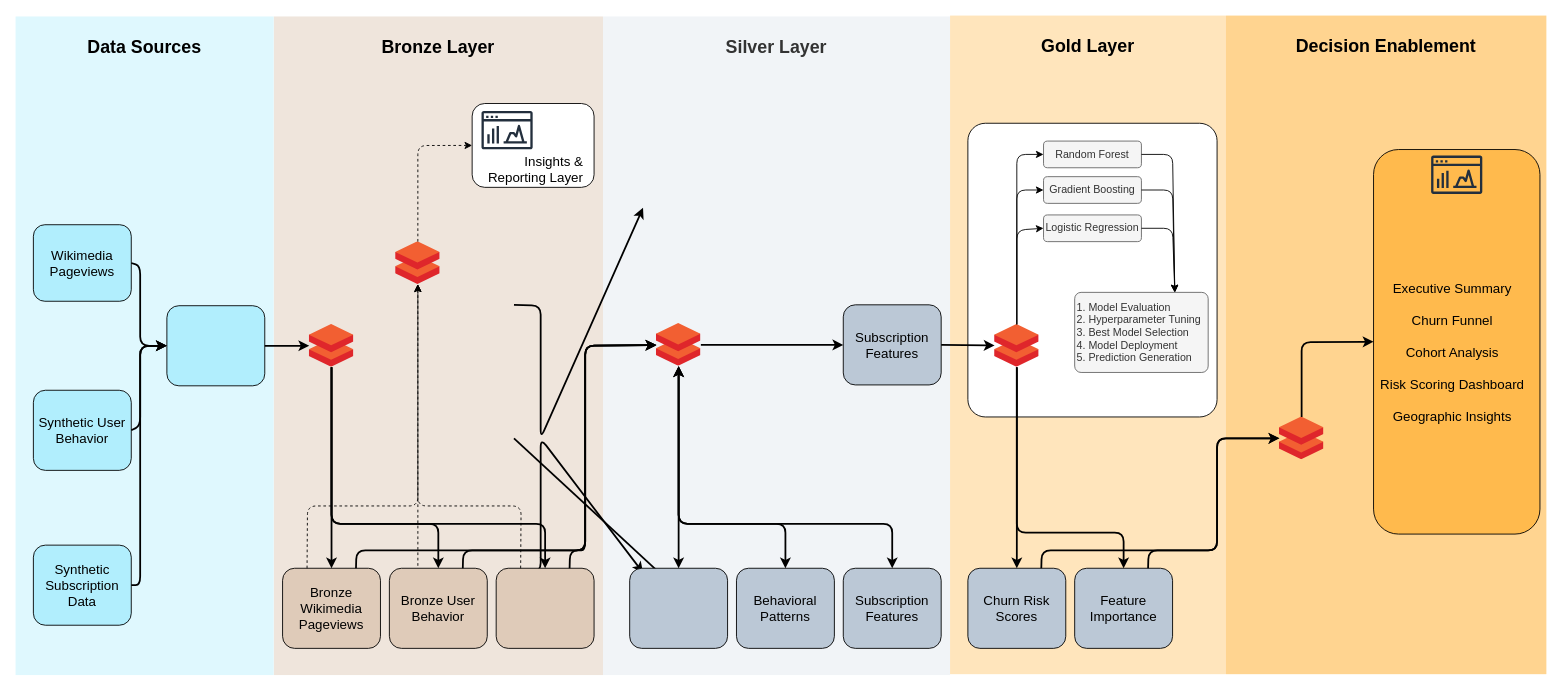
This 1561x690 diagram has some shape labels left out. Here are the shapes that lost their labels. From the top down, the centre of each, then its label:
(x=417, y=262): Data Quality Validation
(x=215, y=345): Raw Behavioral Logs
(x=331, y=345): Data Integration
(x=678, y=344): Feature Engineering
(x=1016, y=345): Model Training
(x=1301, y=438): Dashboard Generation
(x=544, y=607): Bronze Subscription Data
(x=678, y=607): Engagement KPIs
